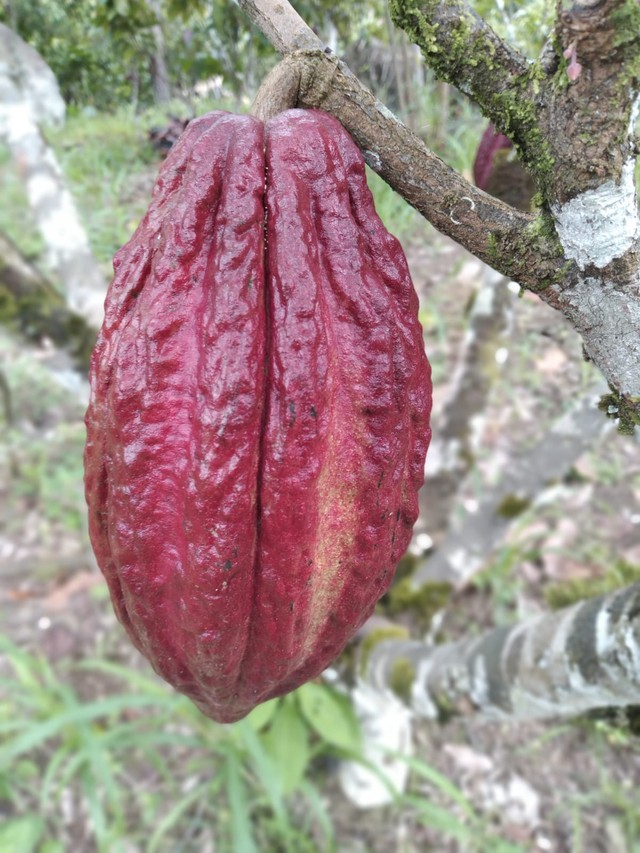Health: (52, 75, 458, 742)
